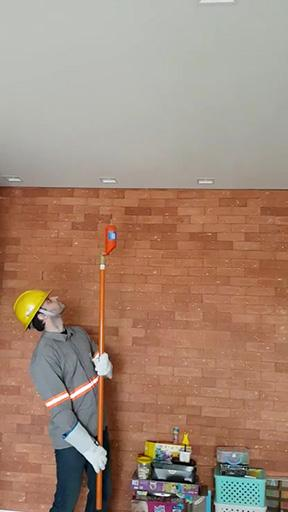Detector_Tensao_Contato: (103, 215, 119, 258)
Vara_Manobra: (92, 255, 108, 510)
